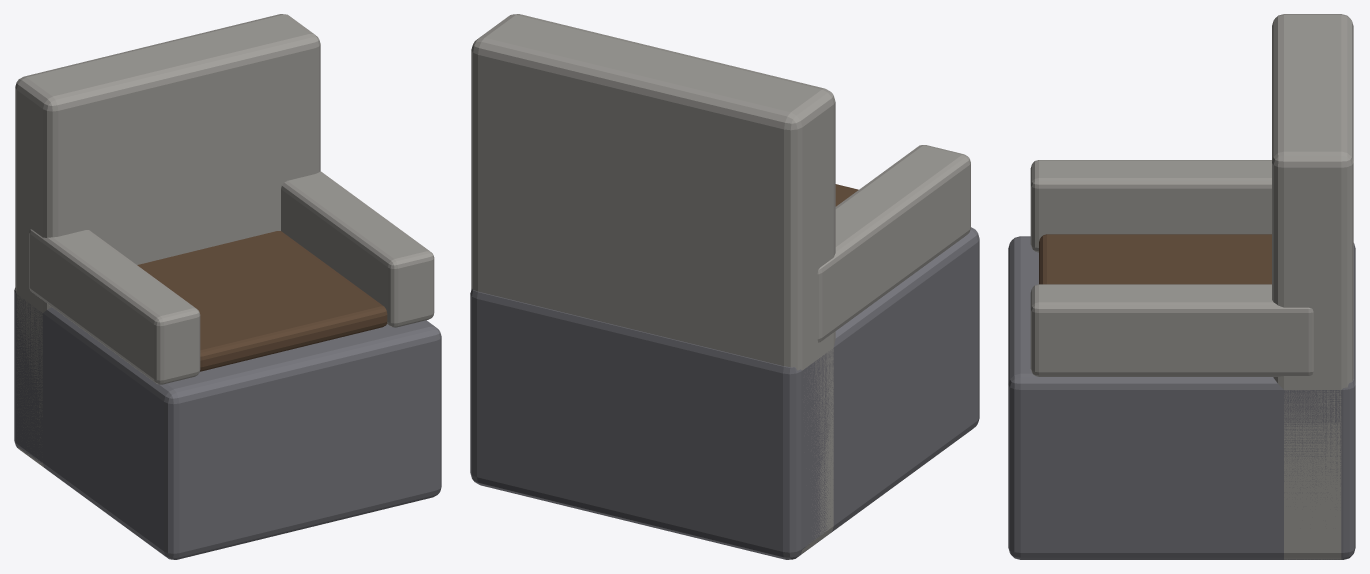
Rendered from throne_stone_seat.glb.
3 views of the same model, side by side, from view 1: azimuth 30°, elevation 25°; view 2: azimuth 150°, elevation 25°; view 3: azimuth 270°, elevation 25° (orthographic). The views are drawn at different scales.
Parts seen in each view (by area): view 1: GD_throne_stone_seat__m1, GD_throne_stone_seat__m0, GD_throne_stone_seat__m2; view 2: GD_throne_stone_seat__m1, GD_throne_stone_seat__m0; view 3: GD_throne_stone_seat__m1, GD_throne_stone_seat__m0, GD_throne_stone_seat__m2.
Boxes of the visible parts, x1,y1,x2,y2 form: GD_throne_stone_seat__m1: (15, 14, 434, 467); GD_throne_stone_seat__m0: (14, 288, 441, 559); GD_throne_stone_seat__m2: (137, 231, 387, 371); GD_throne_stone_seat__m1: (471, 14, 970, 555); GD_throne_stone_seat__m0: (470, 227, 979, 559); GD_throne_stone_seat__m1: (1030, 14, 1353, 559); GD_throne_stone_seat__m0: (1008, 236, 1355, 559); GD_throne_stone_seat__m2: (1039, 234, 1271, 284).
Size of the model in its own units: 0.86 by 1.1 by 0.85.
